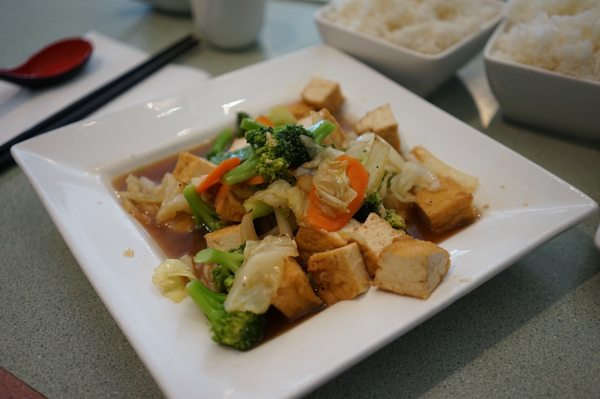curry: (225, 121, 317, 187), (185, 279, 266, 352)
pizza: (190, 1, 265, 52)
salad: (0, 36, 94, 89)
sushi: (11, 42, 600, 394), (313, 1, 507, 98), (483, 1, 600, 146)
